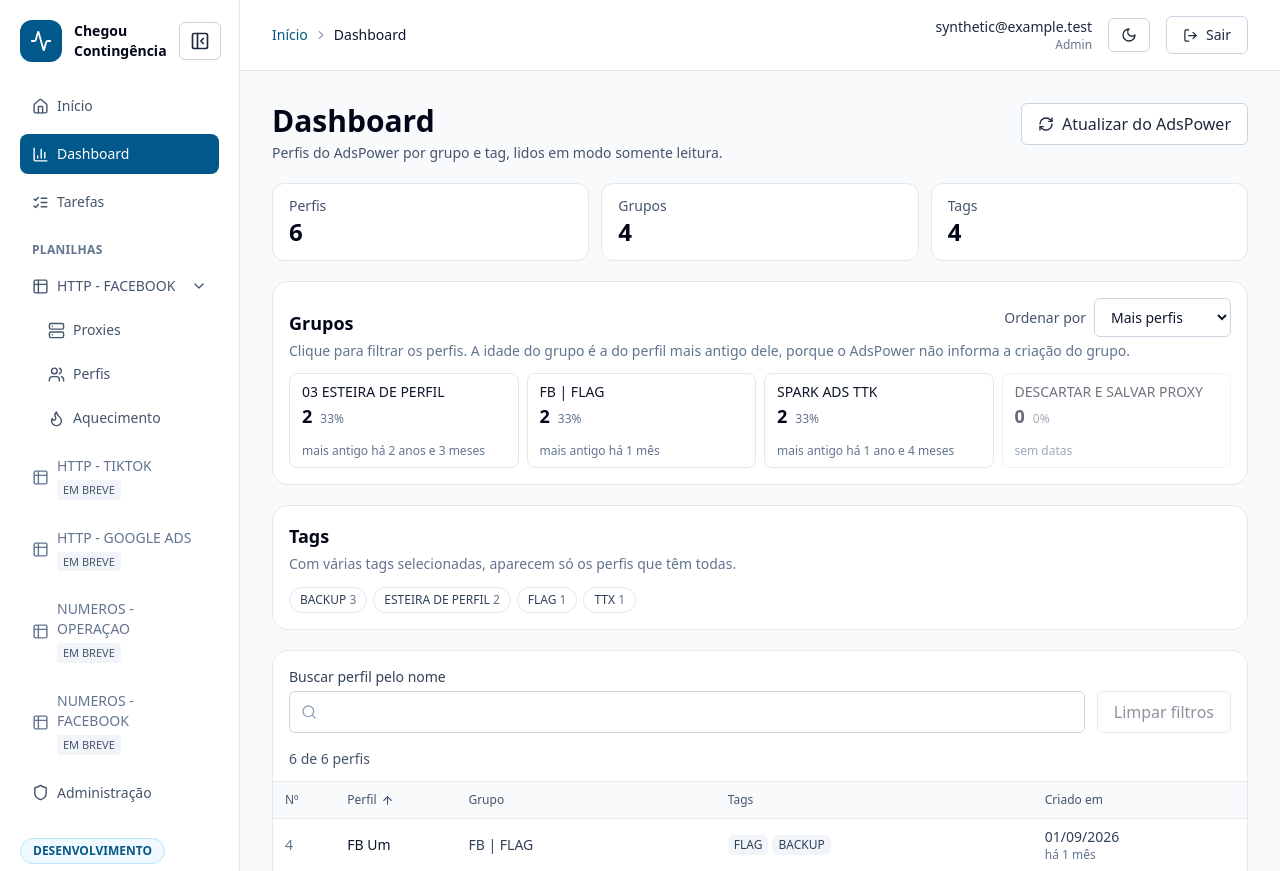
Scenario: buscar pelo nome, combinar filtros e mostrar estado vazio com saída
Expected: the heading "Dashboard" is shown, [272,100,435,141]
Expected: the button with aria-label "03 ESTEIRA DE PERFIL: 2 perfis" is shown, [289,373,518,468]
In the field labelled "Buscar perfil pelo nome": (687, 712) [289,691,1085,733], type "perfil"
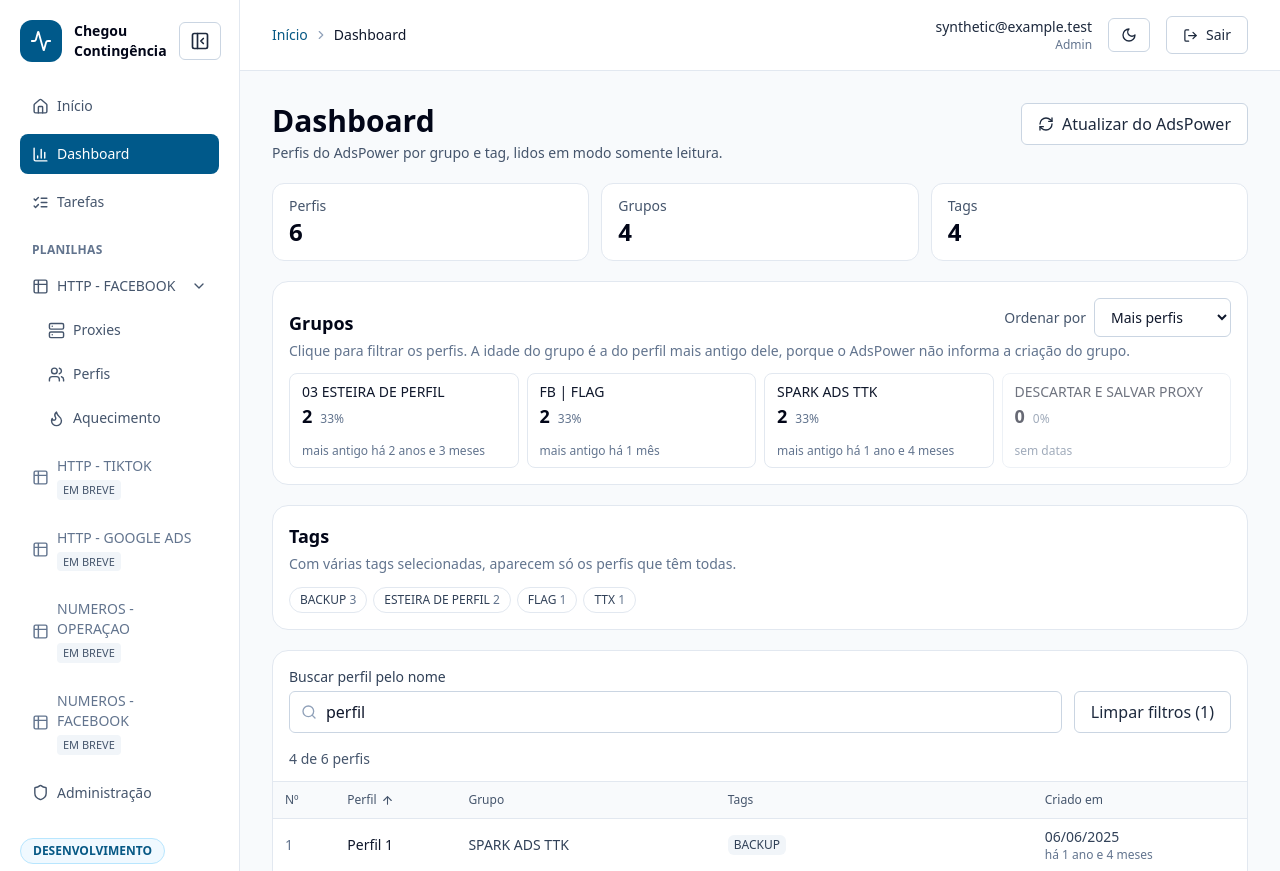
Click the button with aria-label "SPARK ADS TTK: 2 perfis": (879, 421) [764,373,994,468]
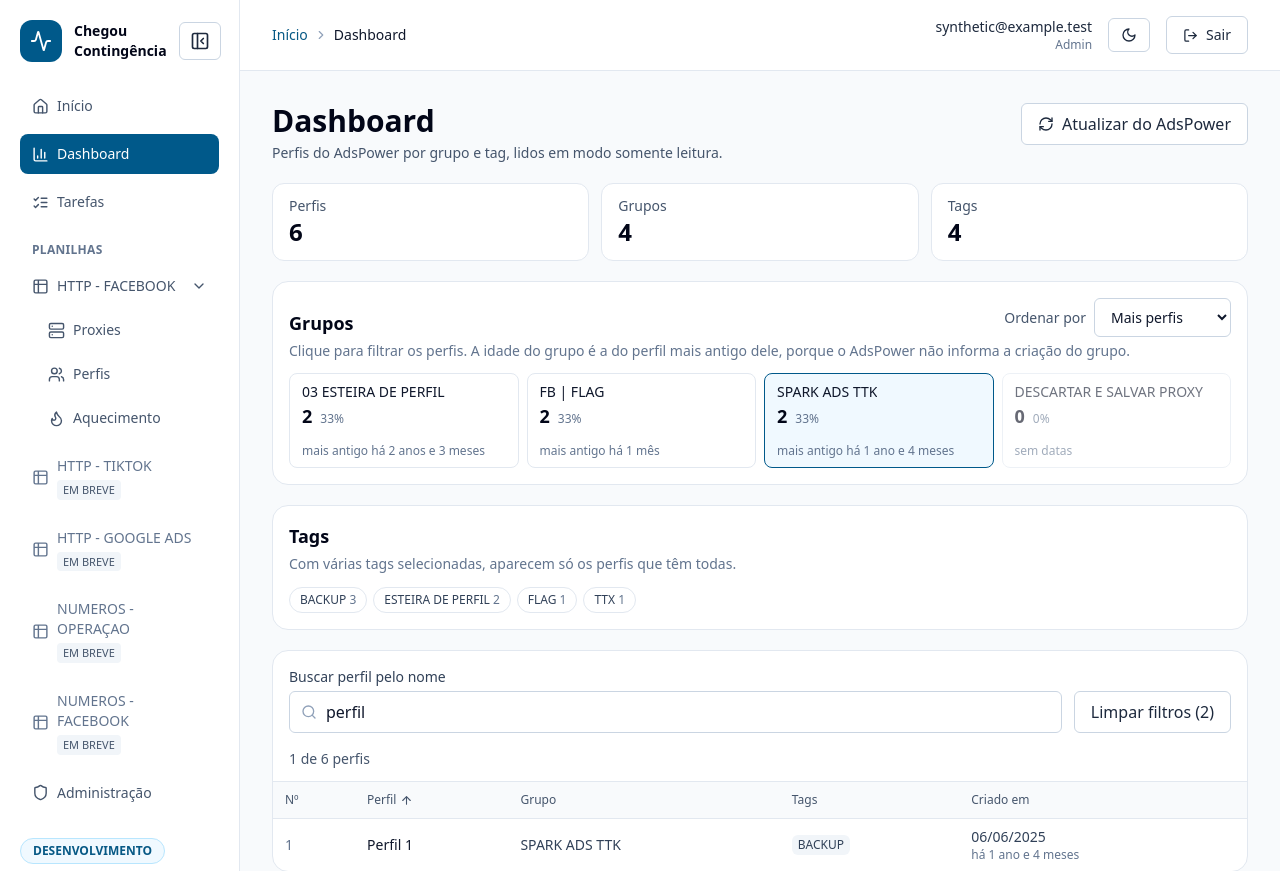
Replace the text in the field labelled "Buscar perfil pelo nome" with "zzz": (675, 712) [289,691,1062,733]
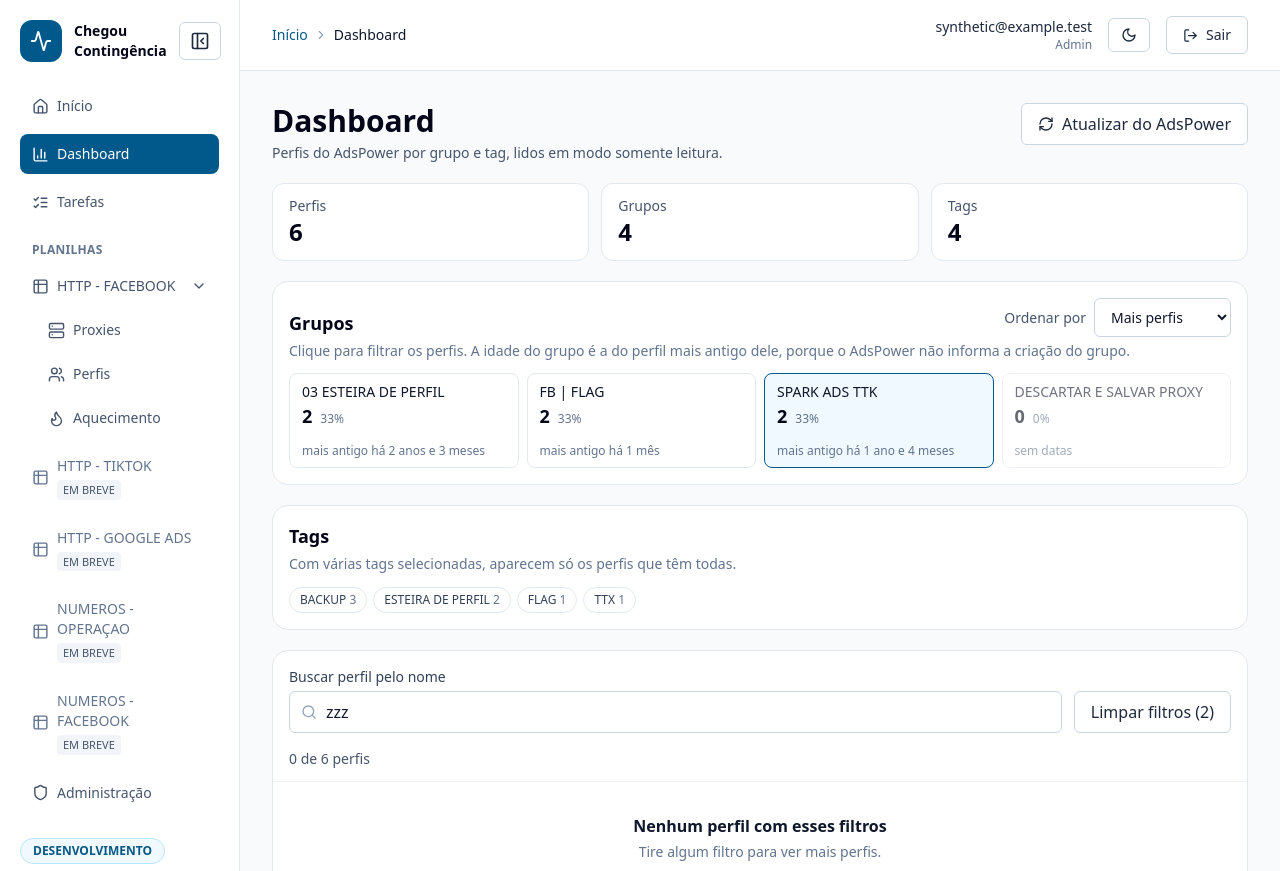
Expected: the heading "Nenhum perfil com esses filtros" is shown, [633,815,887,837]
Expected: the message reads "0 de 6 perfis", [289,749,370,768]
Click the button "Limpar filtros (2)": (1152, 712) [1074,691,1231,733]
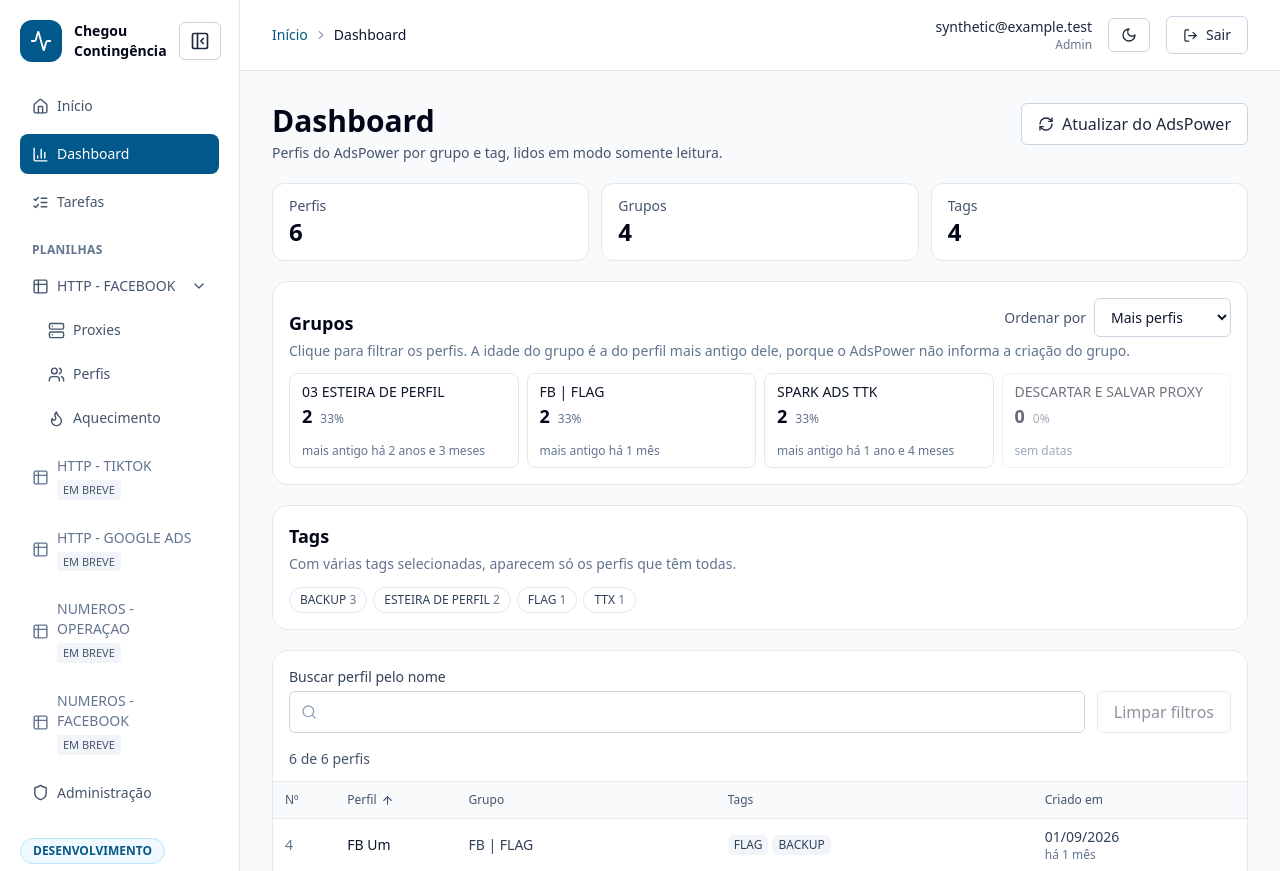
Expected: the field labelled "Buscar perfil pelo nome" is empty, [289,691,1085,733]
